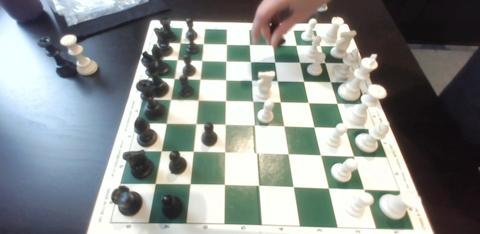xcorner: (156, 148, 165, 157), (188, 149, 197, 158), (161, 120, 170, 129), (251, 122, 260, 131), (169, 74, 178, 83), (301, 77, 310, 86), (272, 57, 281, 66), (322, 58, 331, 67), (317, 41, 326, 50), (150, 181, 159, 189), (220, 182, 228, 191), (255, 183, 263, 192), (289, 184, 298, 192), (324, 185, 333, 193), (359, 186, 368, 194), (220, 150, 229, 158), (285, 151, 293, 160), (317, 152, 326, 160), (191, 121, 200, 129), (221, 122, 230, 130), (281, 123, 290, 131), (311, 124, 320, 132), (342, 124, 350, 133), (222, 97, 230, 106), (278, 98, 286, 107), (306, 99, 315, 107), (334, 100, 343, 108), (222, 76, 231, 84), (249, 76, 257, 85), (173, 55, 181, 64), (223, 56, 231, 65), (247, 57, 256, 65), (297, 58, 306, 66), (176, 38, 184, 47), (199, 39, 208, 47), (223, 39, 231, 48), (246, 40, 255, 48), (270, 40, 278, 49), (185, 182, 193, 190), (253, 151, 261, 159), (350, 153, 358, 161), (166, 96, 174, 104), (194, 97, 202, 105), (250, 98, 258, 106), (196, 75, 204, 83), (275, 77, 283, 85), (328, 78, 336, 86), (198, 56, 206, 64), (294, 41, 302, 49)
